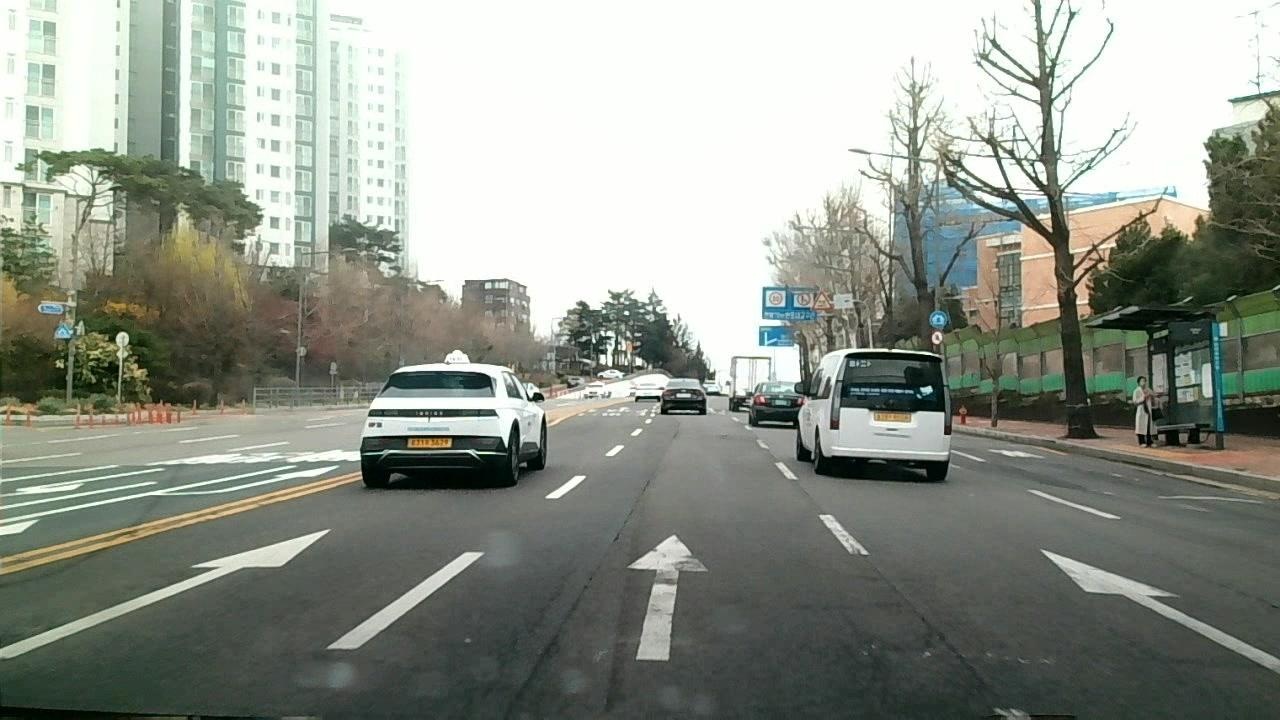vcrack: (866, 557, 1009, 719), (480, 569, 598, 720), (596, 471, 651, 571), (1175, 566, 1279, 613)
